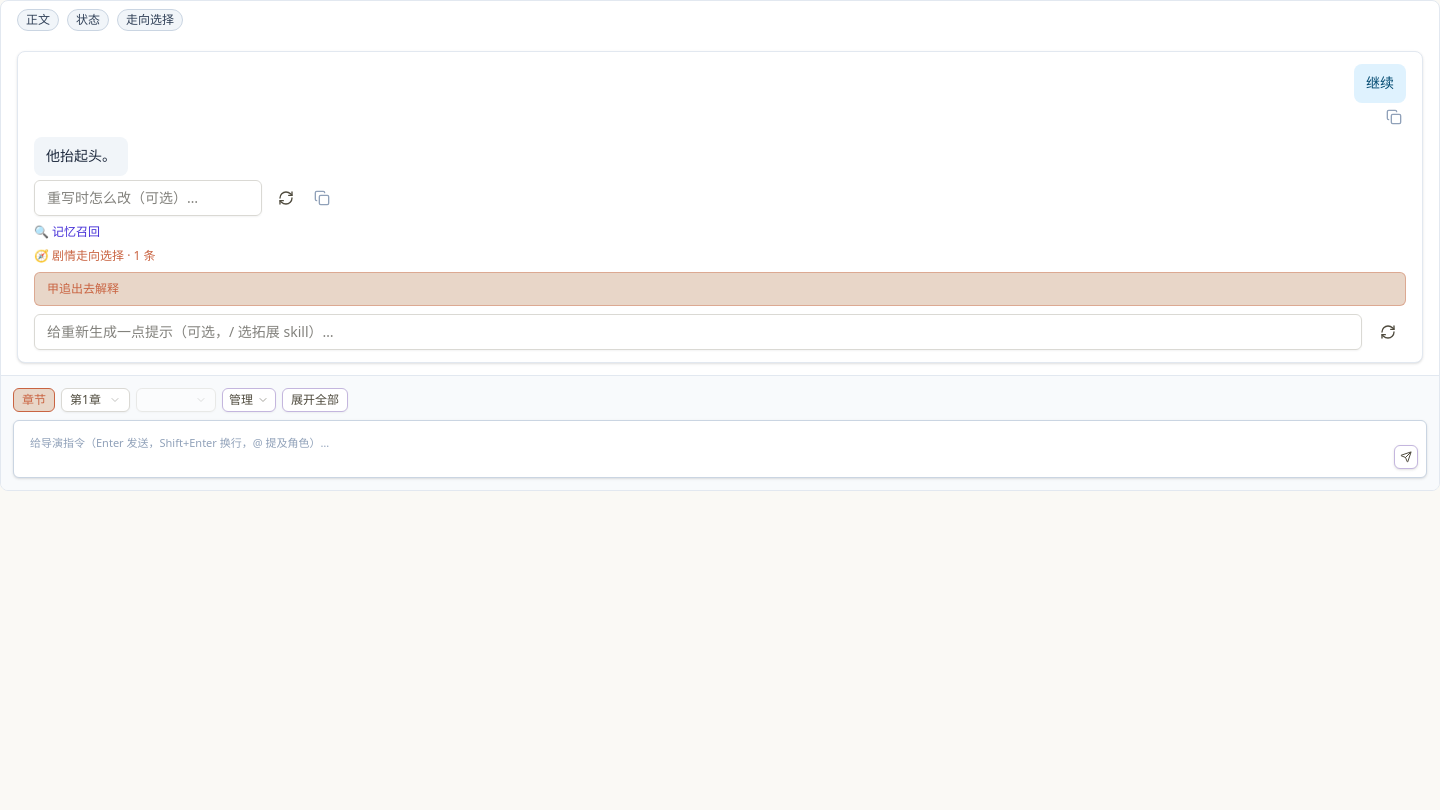
Test case: StorySandboxPanel › clicking a direction pill toggles selection without touching the input or resubmitting
expect the text "他抬起头。" is shown: met, box [46,145,116,168]
Click the button "甲追出去解释" at (83, 288), box [34,272,1406,306]
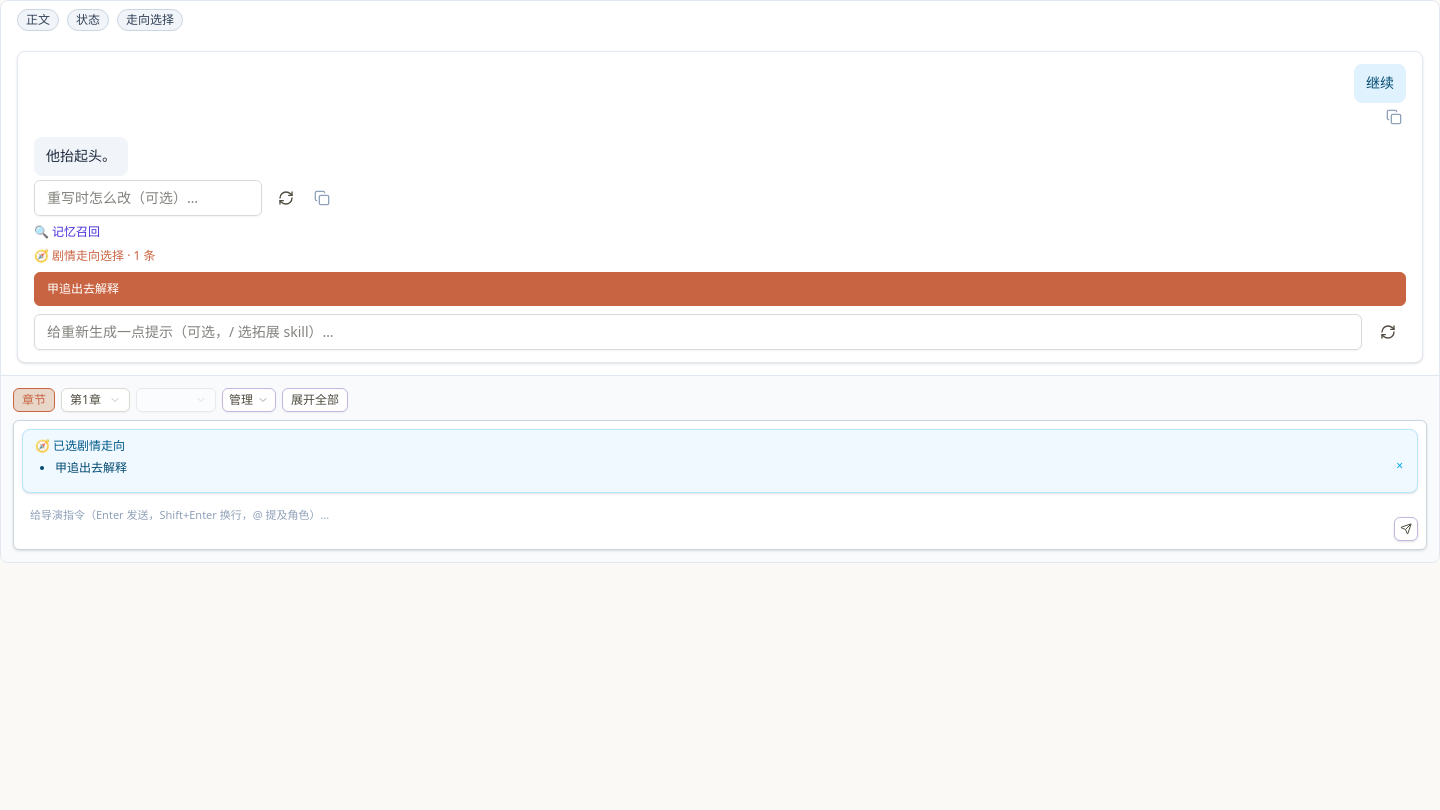
expect the text box with placeholder "给导演指令（Enter 发送，Shift+Enter 换行，@ 提及角色）…" is empty: met, box [22,500,1386,540]
expect the text "🧭 已选剧情走向" is shown: met, box [35,436,125,454]
